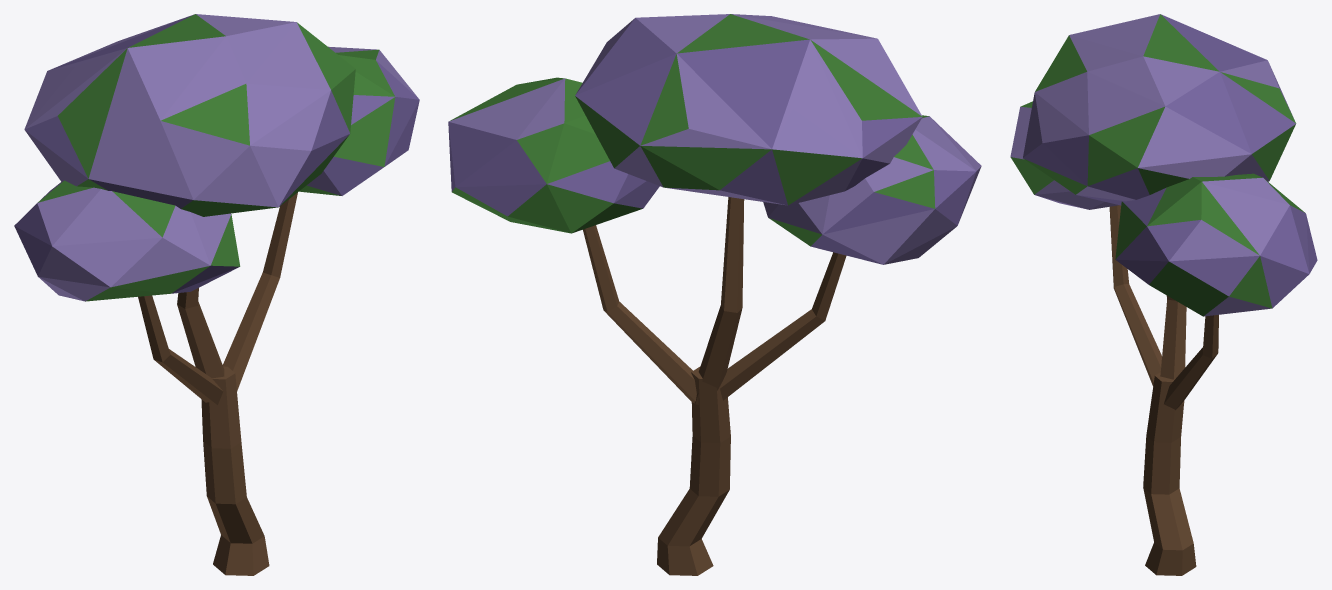
File: arbol_jacaranda_b.glb
3 renders of one model, left to right at view 1: azimuth 30°, elevation 25°; view 2: azimuth 150°, elevation 25°; view 3: azimuth 270°, elevation 25°, orthographic. The views are drawn at different scales.
Visible parts, largest first — view 1: arbol_jacaranda_b_copa, arbol_jacaranda_b_tronco; view 2: arbol_jacaranda_b_copa, arbol_jacaranda_b_tronco; view 3: arbol_jacaranda_b_copa, arbol_jacaranda_b_tronco.
Boxes of the visible parts, x1,y1,x2,y2 form: arbol_jacaranda_b_copa: (14,14,419,301); arbol_jacaranda_b_tronco: (138,192,297,575); arbol_jacaranda_b_copa: (448,14,981,264); arbol_jacaranda_b_tronco: (583,197,846,575); arbol_jacaranda_b_copa: (1010,14,1317,316); arbol_jacaranda_b_tronco: (1109,205,1218,575).
Size of what is drawn, in the model's own units: 4.2 by 5 by 2.79.
